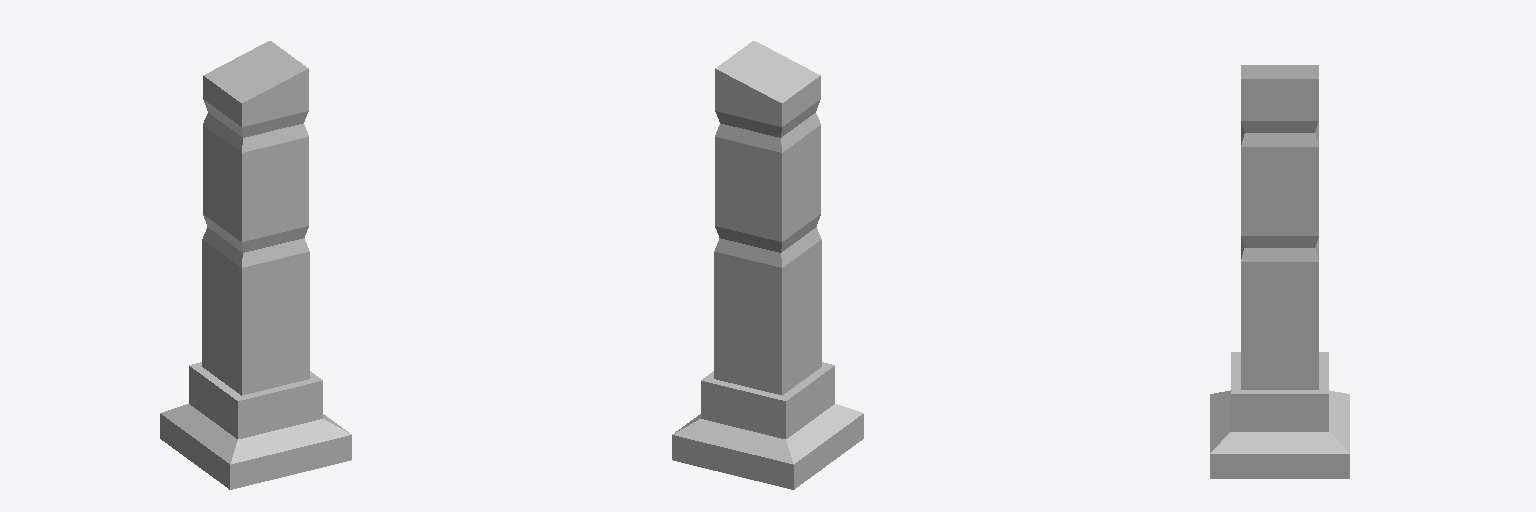
File: Column01.obj
3 views of the same model, side by side, from view 1: azimuth 30°, elevation 25°; view 2: azimuth 150°, elevation 25°; view 3: azimuth 270°, elevation 25° (orthographic).
Parts seen in each view (by area): view 1: Cube.002; view 2: Cube.002; view 3: Cube.002.
Part boxes in pixels (left/top/right/bottom): Cube.002: left=160, top=41, right=351, bottom=489; Cube.002: left=672, top=41, right=863, bottom=489; Cube.002: left=1210, top=65, right=1349, bottom=478.
Size of the model in its own units: 1 by 3.03 by 1.